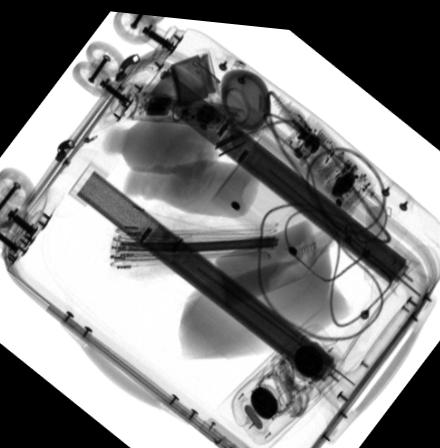Baton: (124, 90, 247, 127)
